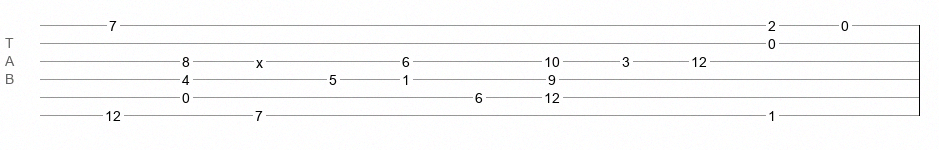0: (182, 90, 190, 100), (768, 36, 776, 46), (841, 18, 849, 28)
1: (402, 72, 410, 82), (768, 108, 776, 118)
10: (544, 54, 560, 64)
12: (105, 108, 121, 118), (544, 90, 560, 100), (691, 54, 707, 64)
2: (768, 18, 776, 28)
3: (622, 54, 630, 64)
4: (182, 72, 190, 82)
5: (329, 72, 337, 82)
6: (402, 54, 410, 64), (475, 90, 483, 100)
7: (109, 18, 117, 28), (255, 108, 263, 118)
8: (182, 54, 190, 64)
9: (548, 72, 556, 82)
x: (256, 55, 263, 63)
